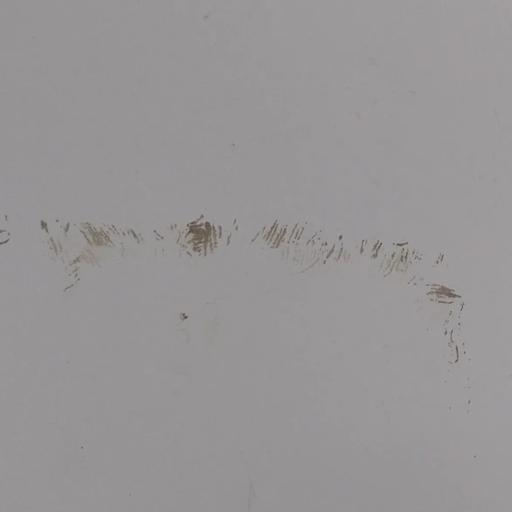stain: (3, 175, 512, 402)
